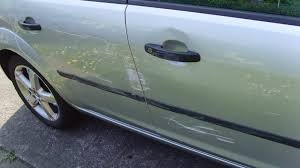Scratch: (162, 116, 233, 143), (123, 52, 148, 91)
